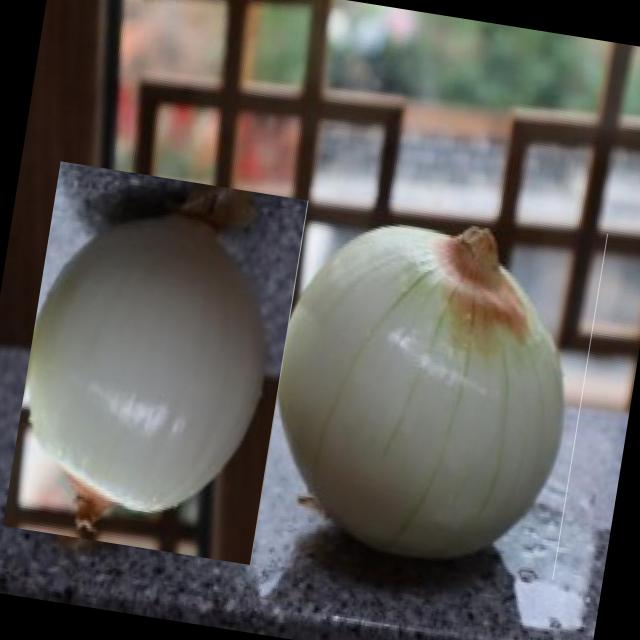Onion: (254, 187, 608, 580), (2, 161, 308, 566)
